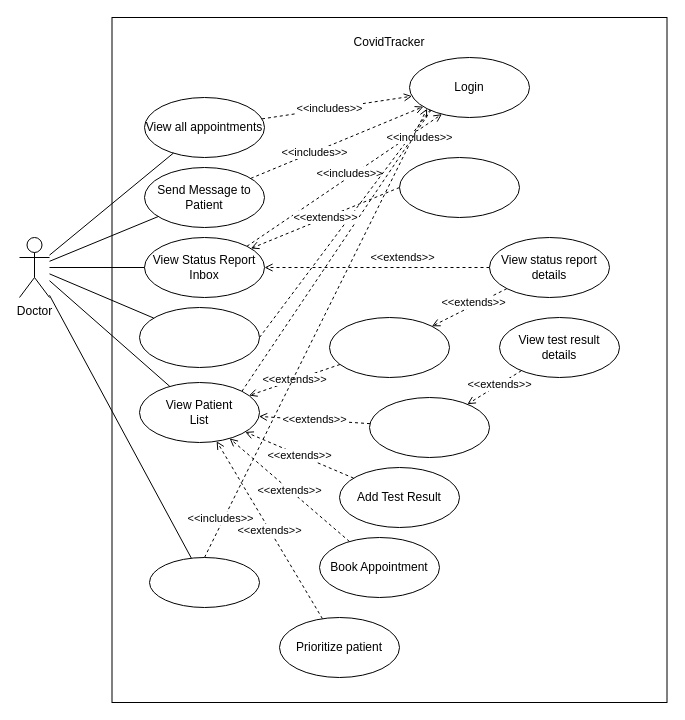
Some shapes in this 685 by 720 pixel diagram are drawn without their labels. The shapes that lost their labels are listed below. From the top down, each one's centre as x and y in pixels, then its label:
the point at 459,187: Mark reviewed status
the point at 199,337: Define Status Report
the point at 389,347: View Status Reports
the point at 429,427: View Test Results
the point at 204,582: Dashboard
